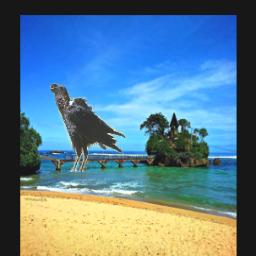Crow: (49, 83, 126, 173)
